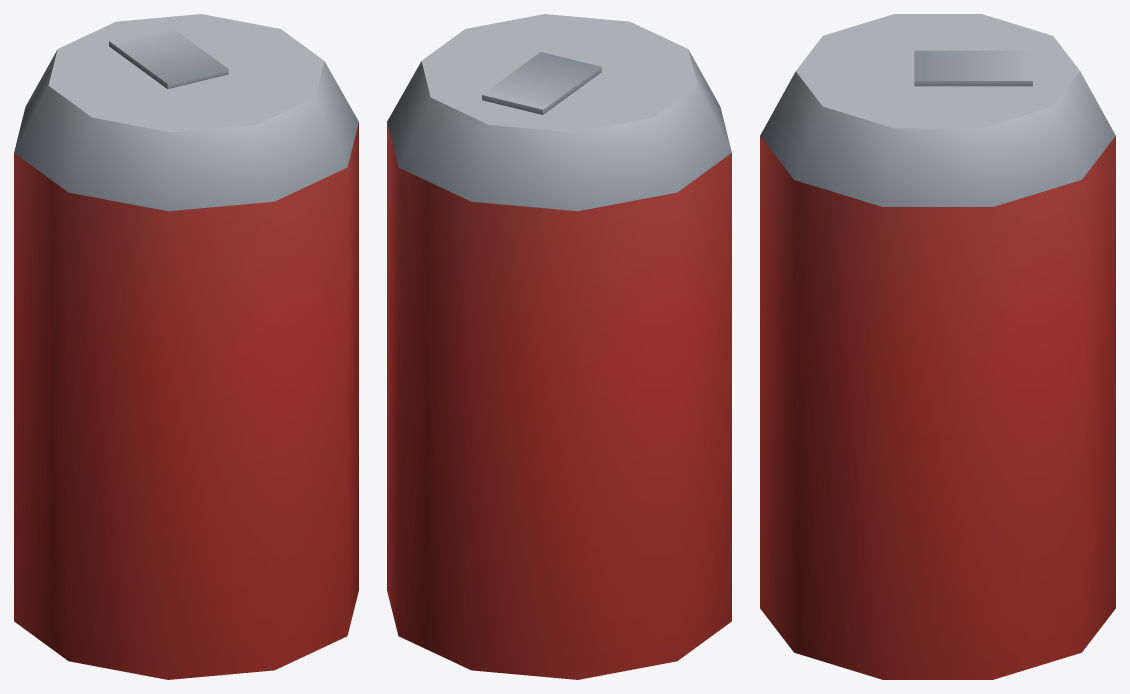
Rendered from dt_soda_can.fbx.
3 renders of one model, left to right at view 1: azimuth 30°, elevation 25°; view 2: azimuth 150°, elevation 25°; view 3: azimuth 270°, elevation 25°, orthographic.
Parts seen in each view (by area): view 1: dt_soda_can; view 2: dt_soda_can; view 3: dt_soda_can.
Part boxes in pixels (x1=…): dt_soda_can: x1=14, y1=14, x2=358, y2=679; dt_soda_can: x1=387, y1=14, x2=731, y2=679; dt_soda_can: x1=760, y1=14, x2=1115, y2=679.
Bounding box in the file's own units: 33.9 × 60 × 35.64.
